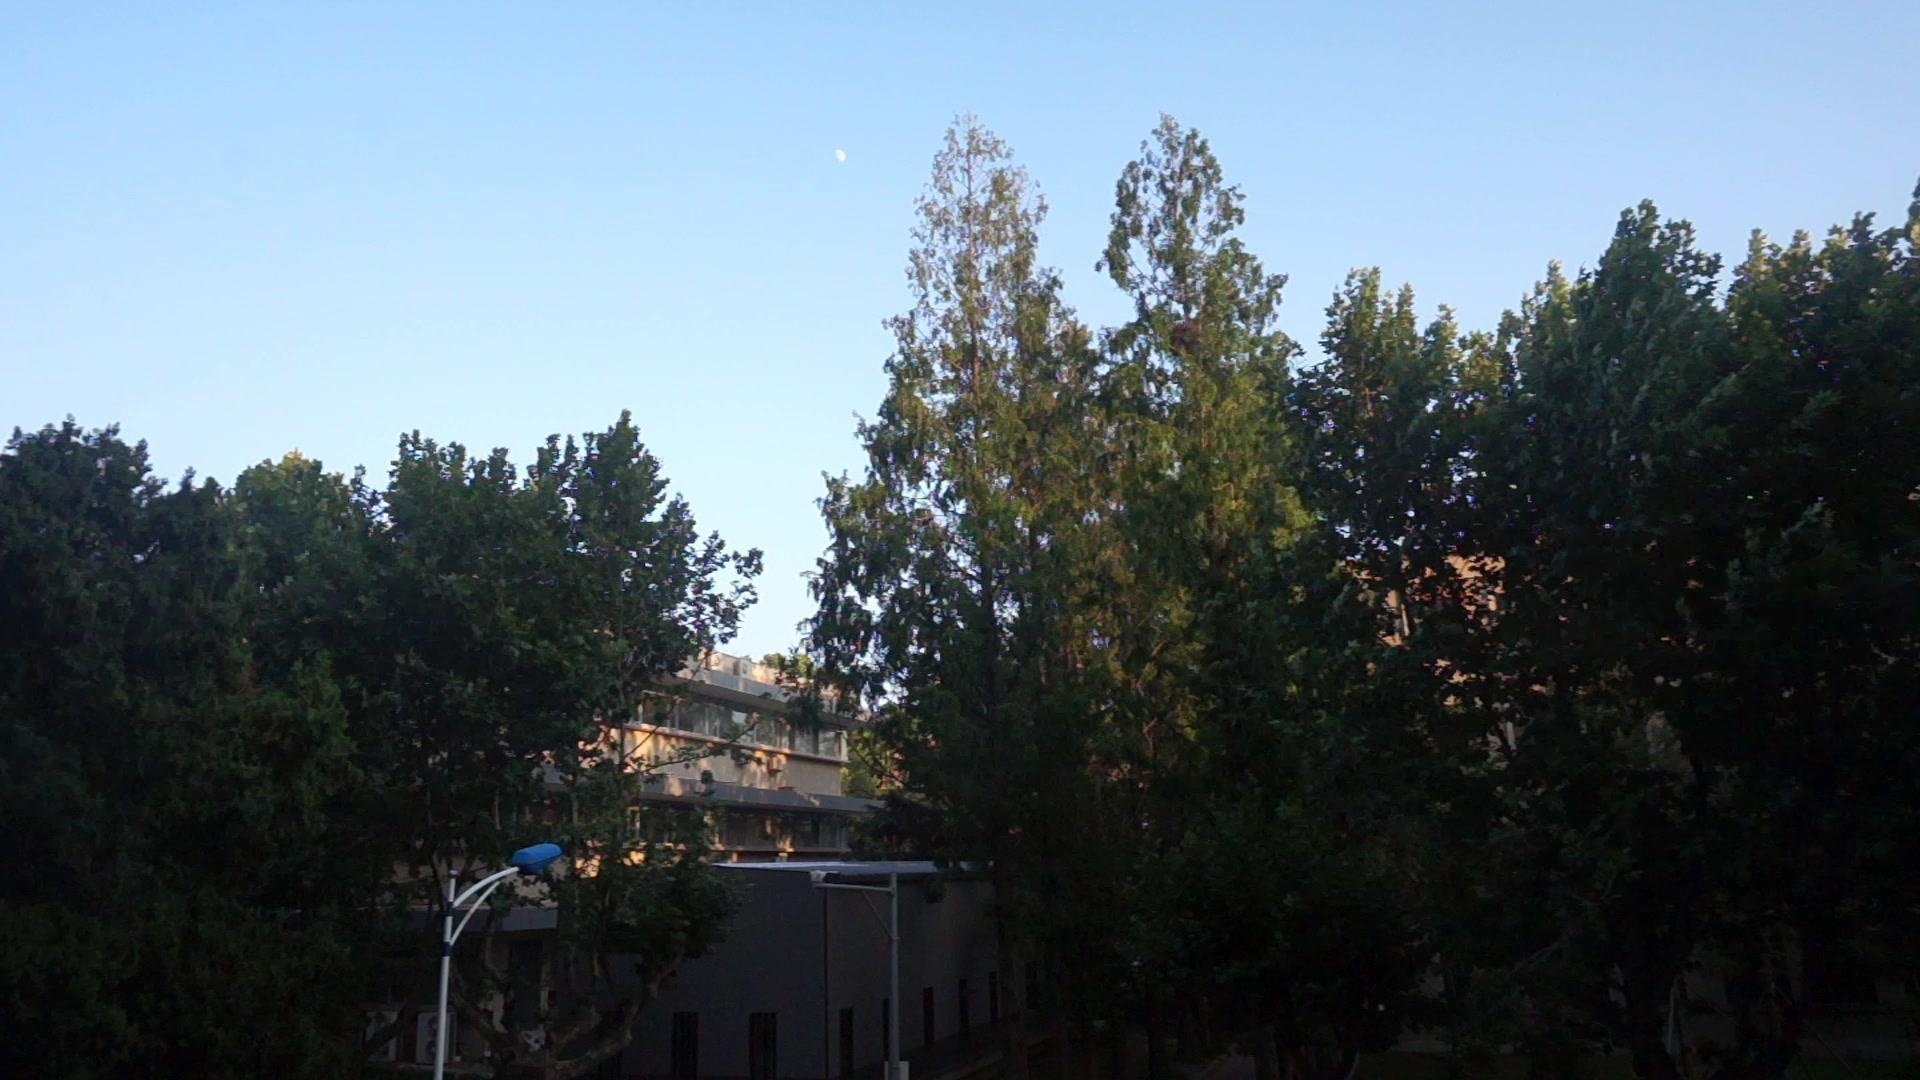UAV: (914, 516, 935, 527)
